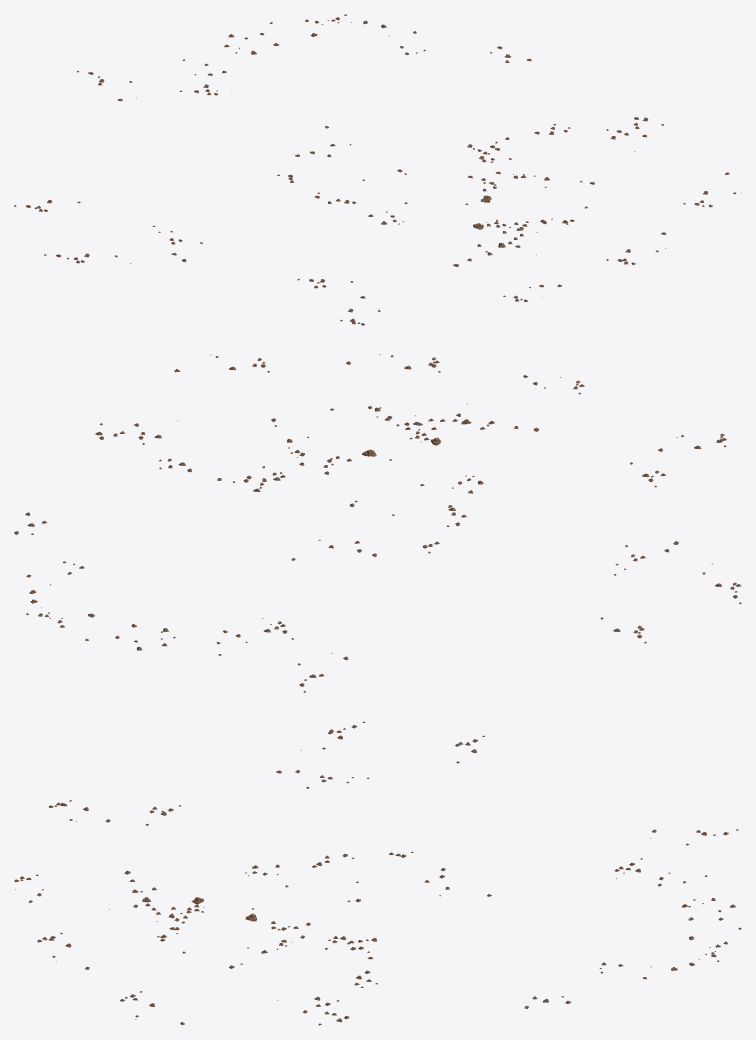
The model's file is rock_small.glb.
3 renders of one model, top to bottom at view 1: azimuth 30°, elevation 25°; view 2: azimuth 150°, elevation 25°; view 3: azimuth 270°, elevation 25°, orthographic. The views are drawn at different scales.
Bounding box in the file's own units: 25.1 × 0.1682 × 25.43.
